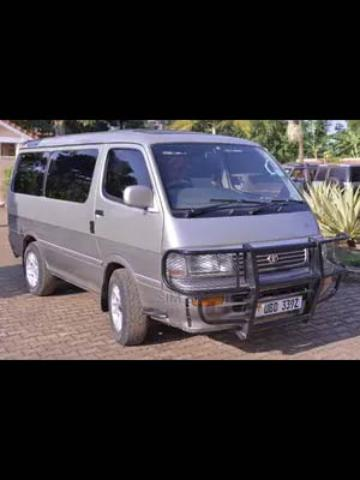van: (7, 126, 344, 344)
